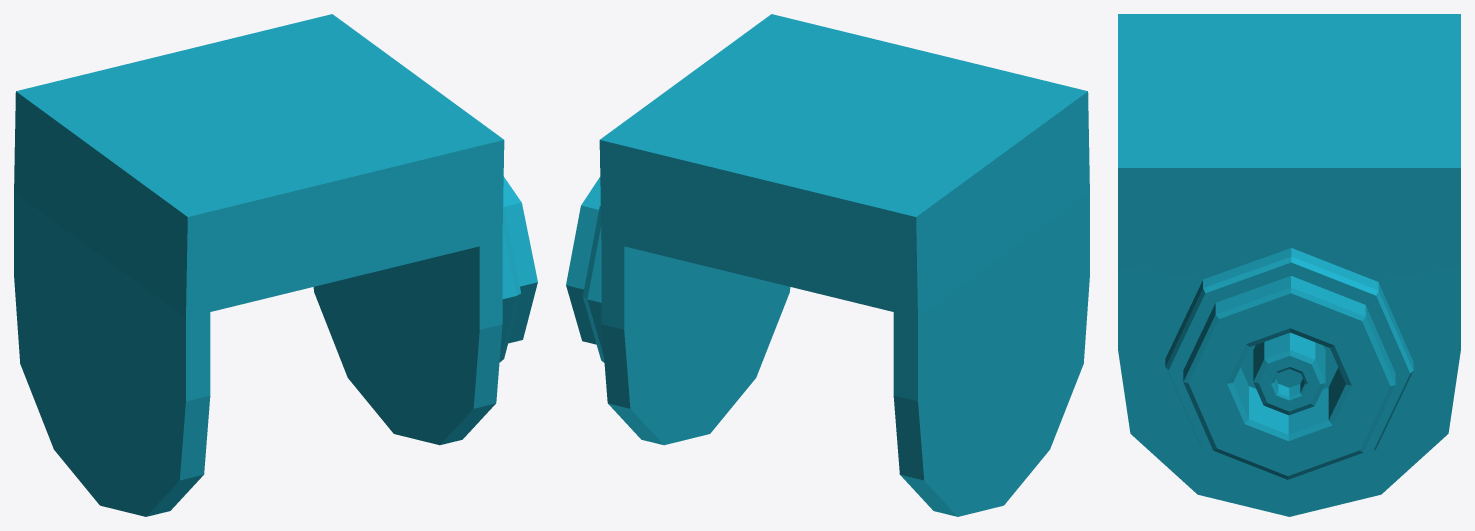
3 renders of one model, left to right at view 1: azimuth 30°, elevation 25°; view 2: azimuth 150°, elevation 25°; view 3: azimuth 270°, elevation 25°, orthographic.
Visible parts, largest first — view 1: Cylinder.022; view 2: Cylinder.022; view 3: Cylinder.022.
Boxes of the visible parts, <box> form: Cylinder.022: <box>14,14,537,516</box>; Cylinder.022: <box>566,14,1089,516</box>; Cylinder.022: <box>1118,14,1460,516</box>.
Bounding box in the file's own units: 0.5454 × 0.4728 × 0.4198.
